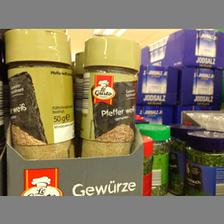Gewuerze: (3, 28, 75, 160), (79, 34, 137, 156), (184, 130, 224, 194)
